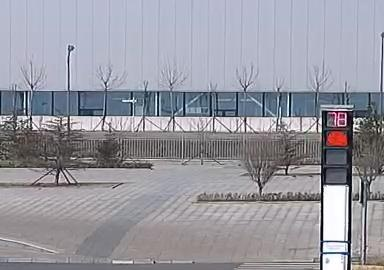red: (327, 131, 349, 148)
redtime: (326, 111, 349, 127)
